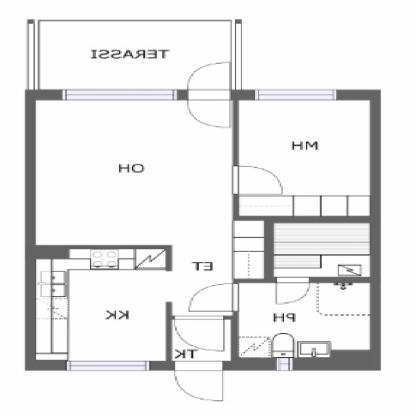door: (178, 62, 232, 127), (168, 359, 228, 406), (174, 316, 230, 353), (185, 278, 240, 312), (228, 166, 286, 194), (275, 276, 311, 304)
window: (65, 88, 177, 100), (254, 88, 336, 101), (69, 359, 148, 371), (274, 357, 294, 369)
zone: (36, 99, 231, 360), (234, 101, 372, 218), (38, 20, 231, 89), (240, 282, 372, 355), (269, 224, 367, 276)
